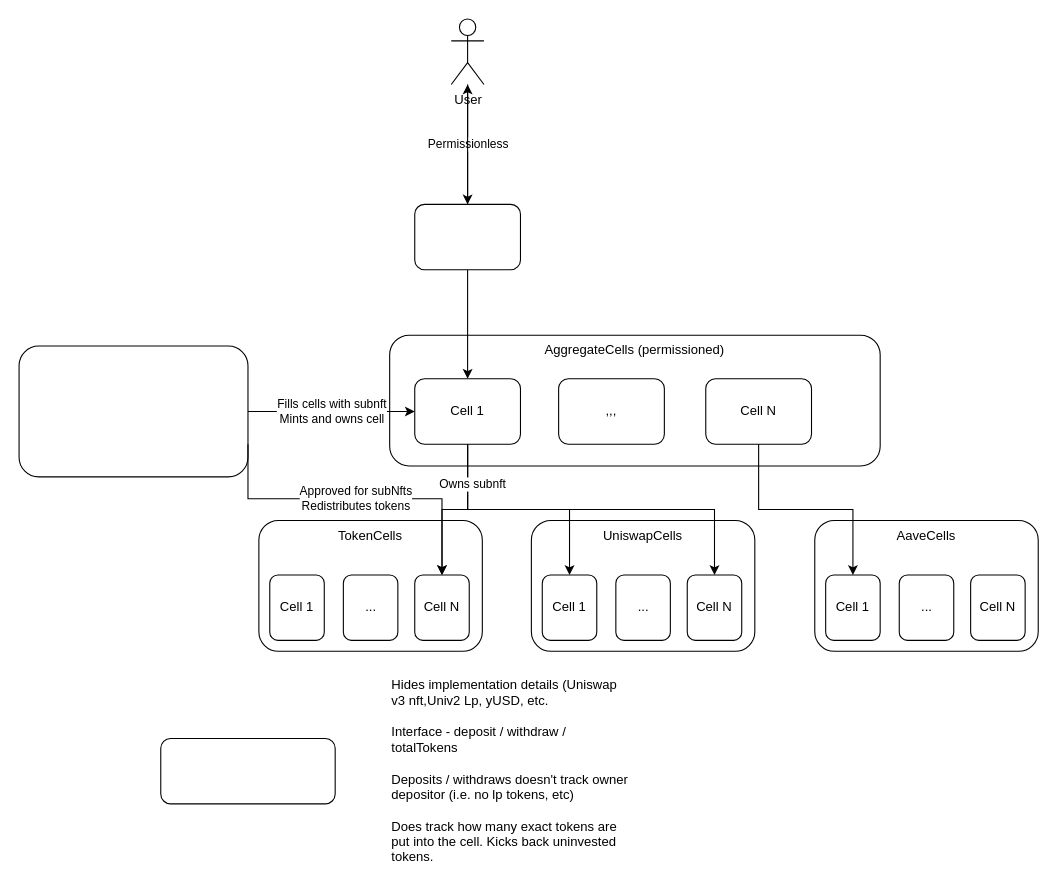
Some shapes in this 1057 by 884 pixel diagram are drawn without their labels. Each missing label, with the centre of its shape:
Cell: pixel 247 770
Lp Pool: pixel 467 236
Strategy 1: pixel 133 411
